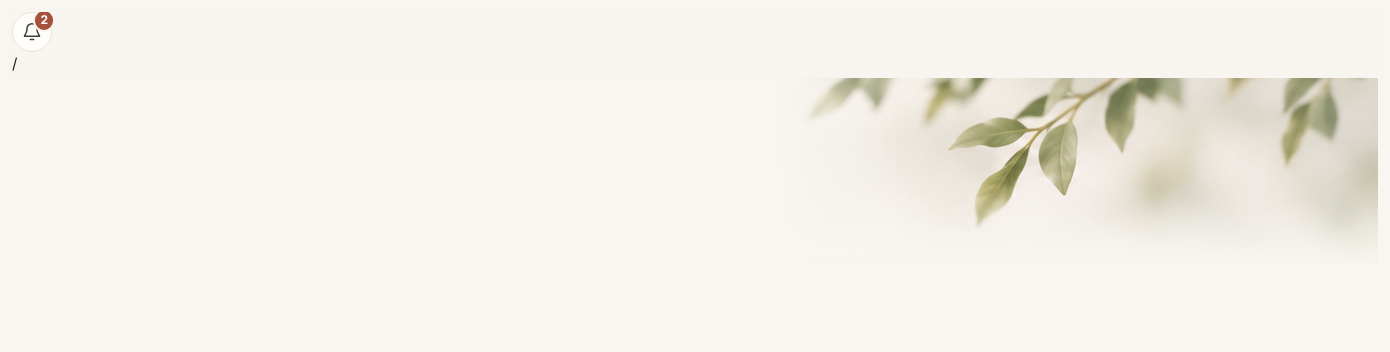
Test: menu groups message and visit copy and defers message reads until chat loads
Click the button named "Notifications, 2 unread".
click(32, 32)  # box [12,12,52,52]
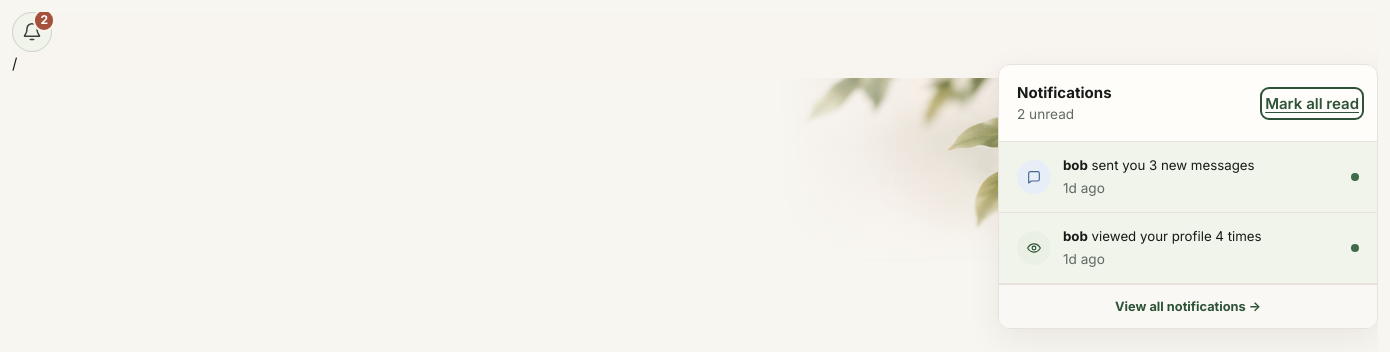
Now the button "bob viewed your profile 4 times 1d ago" is shown, box [999,213,1377,284]
Click the button "bob sent you 3 new messages 1d ago".
click(1034, 177)  # box [999,142,1377,213]
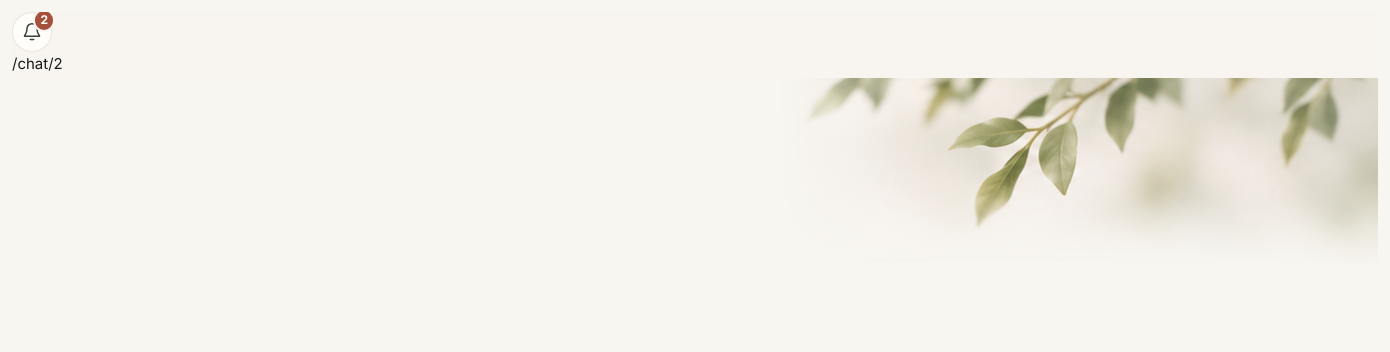
Now the text "/chat/2" is shown, box [12,54,63,73]
